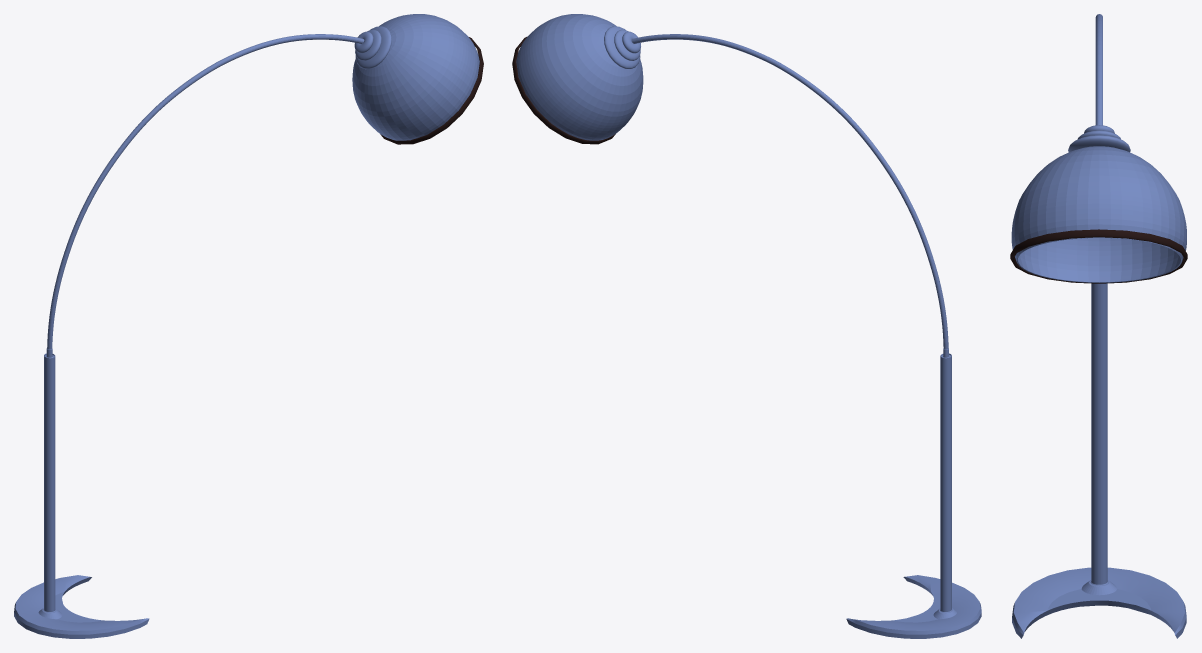
Rendered from lampara.obj.
The picture shows the model from 3 angles, left to right: view 1: azimuth 30°, elevation 25°; view 2: azimuth 150°, elevation 25°; view 3: azimuth 270°, elevation 25°; orthographic projection. The views are drawn at different scales.
Parts seen in each view (by area): view 1: polySurface10 polySurface21, polySurface25, polySurface12 pTorus4, pTorus5; view 2: polySurface10 polySurface21, polySurface25, polySurface12 pTorus4, pTorus5; view 3: polySurface10 polySurface21, polySurface25, polySurface12 pTorus4, pTorus5, polySurface10 polySurface26.
Part boxes in pixels (box(x1,y1,x2,y2)): polySurface10 polySurface21: box(352, 14, 479, 140); polySurface25: box(38, 34, 364, 619); polySurface12 pTorus4: box(14, 575, 149, 638); pTorus5: box(380, 37, 483, 144); polySurface10 polySurface21: box(516, 14, 643, 140); polySurface25: box(631, 34, 956, 619); polySurface12 pTorus4: box(846, 575, 981, 638); pTorus5: box(512, 37, 615, 144); polySurface10 polySurface21: box(1011, 146, 1186, 282); polySurface25: box(1081, 14, 1116, 595); polySurface12 pTorus4: box(1012, 567, 1186, 638); pTorus5: box(1010, 229, 1187, 283); polySurface10 polySurface26: box(1068, 135, 1130, 152).
Bounding box in the file's own units: 3.71 × 4.13 × 0.9527.
Materials: 2 (2 with a texture image).
